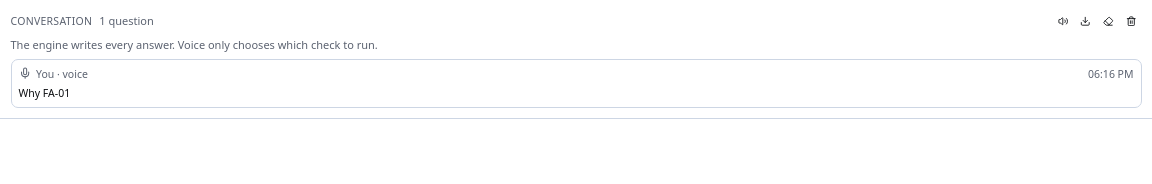
Scenario: what Gemini said aloud › is shown, marked as spoken and not checked by the engine, when the visitor switches it on
Click the button named "Show what Gemini said" at x=1063, y=21, box [1052,10,1073,32]
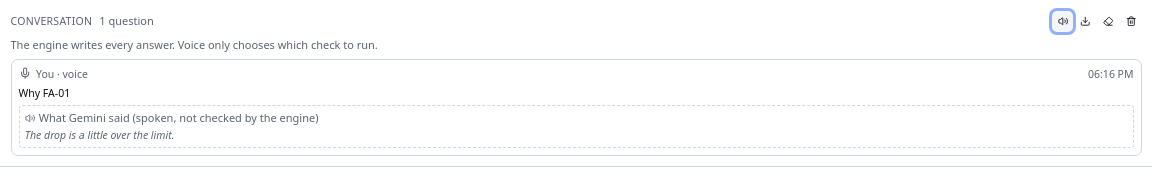
Result: the text "What Gemini said (spoken, not checked by the engine)" is shown at [39,111,319,126]
